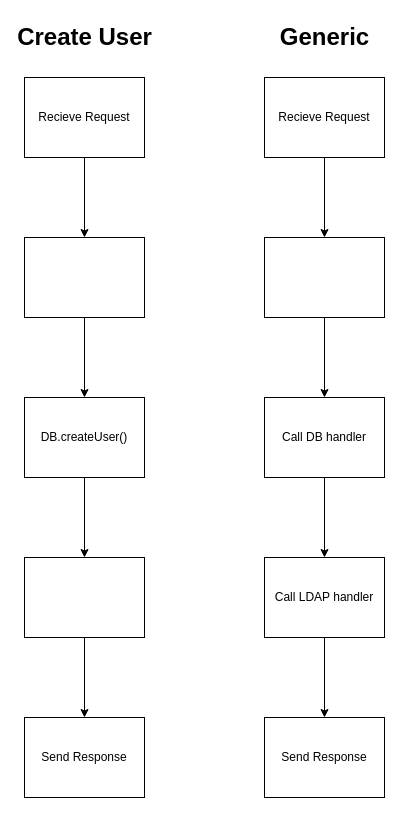
Image size: 402x815. Some labels were removed from this diagram. Each missing label, with the centre of its shape:
Check request: point 324,277
Check request Check user exists: point 84,277
LDAP.createUser(): point 84,597
